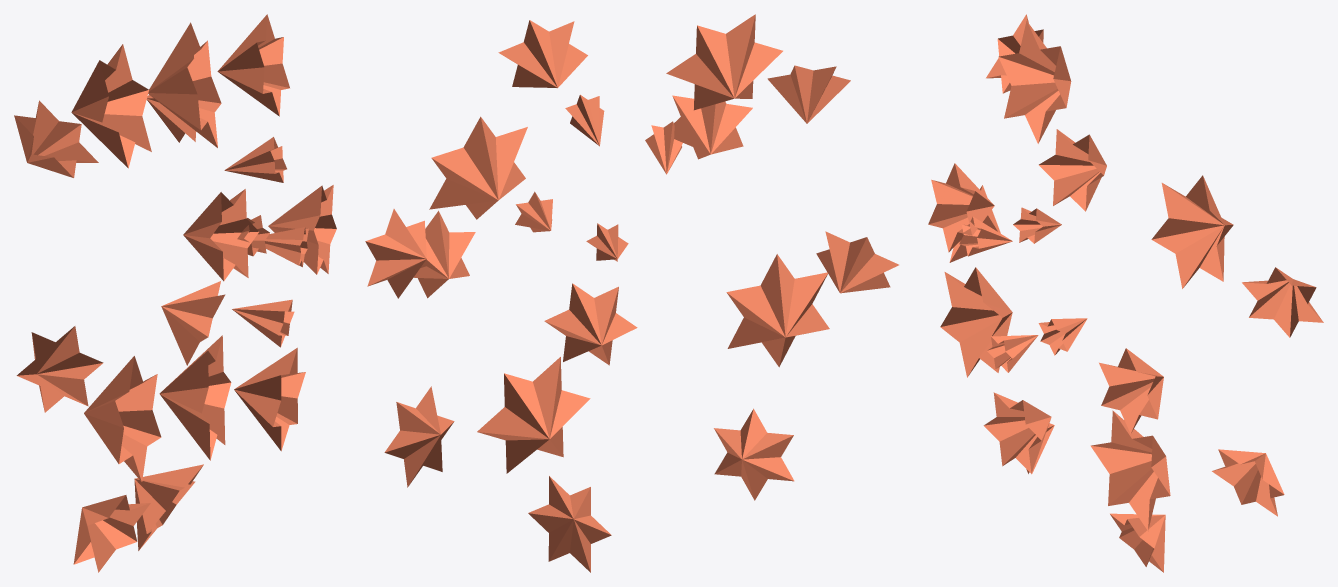
File: 35_openskp_material_42.obj
3 views of the same model, side by side, from view 1: azimuth 30°, elevation 25°; view 2: azimuth 150°, elevation 25°; view 3: azimuth 270°, elevation 25° (orthographic). The views are drawn at different scales.
Visible parts, largest first — view 1: 35_openskp_material_42; view 2: 35_openskp_material_42; view 3: 35_openskp_material_42.
Boxes of the visible parts, box(x1,y1,x2,y2) form: 35_openskp_material_42: box(14, 14, 336, 572); 35_openskp_material_42: box(365, 14, 898, 572); 35_openskp_material_42: box(928, 14, 1323, 572).
Size of the model in its own units: 9.38 by 11.83 by 8.47.
